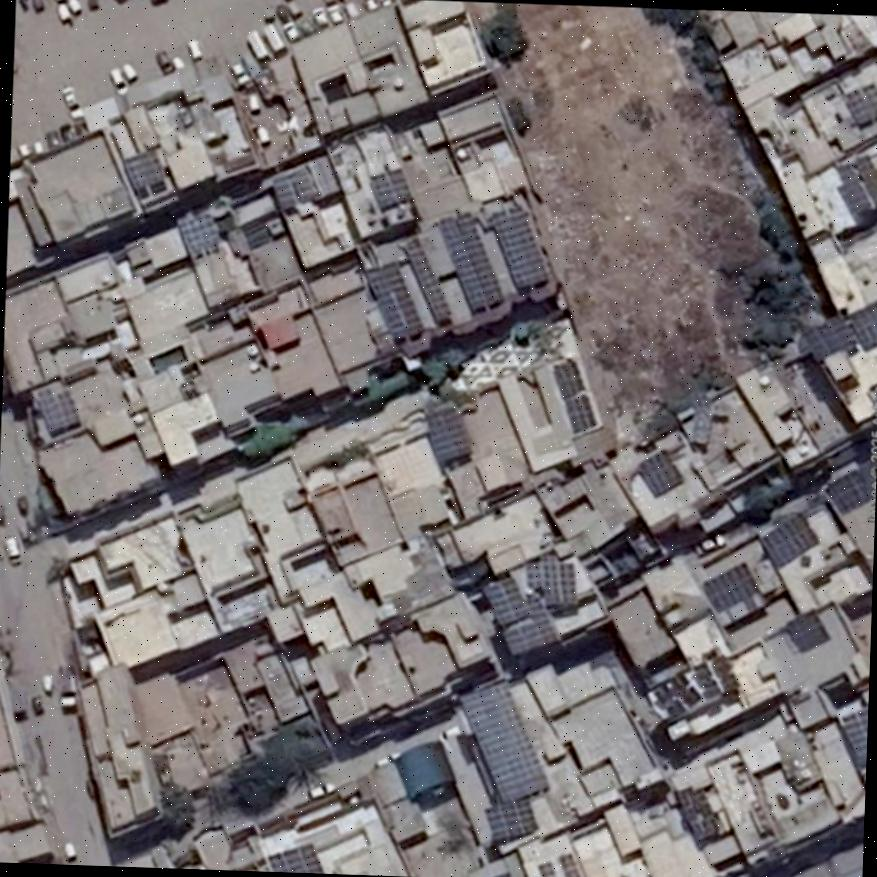Solarpanel: (457, 681, 547, 801), (433, 214, 500, 312), (481, 572, 558, 656), (488, 208, 547, 288), (365, 265, 424, 344), (410, 243, 454, 324), (763, 514, 820, 569), (552, 362, 596, 430), (701, 561, 757, 613), (483, 794, 539, 845), (832, 156, 877, 213), (802, 315, 855, 360), (425, 410, 470, 459), (35, 381, 79, 431), (637, 447, 680, 496), (528, 562, 578, 604), (827, 468, 870, 514), (267, 842, 325, 873), (842, 704, 867, 772), (370, 167, 410, 208), (175, 212, 217, 246), (849, 301, 877, 351), (125, 152, 160, 190), (847, 83, 877, 123)
